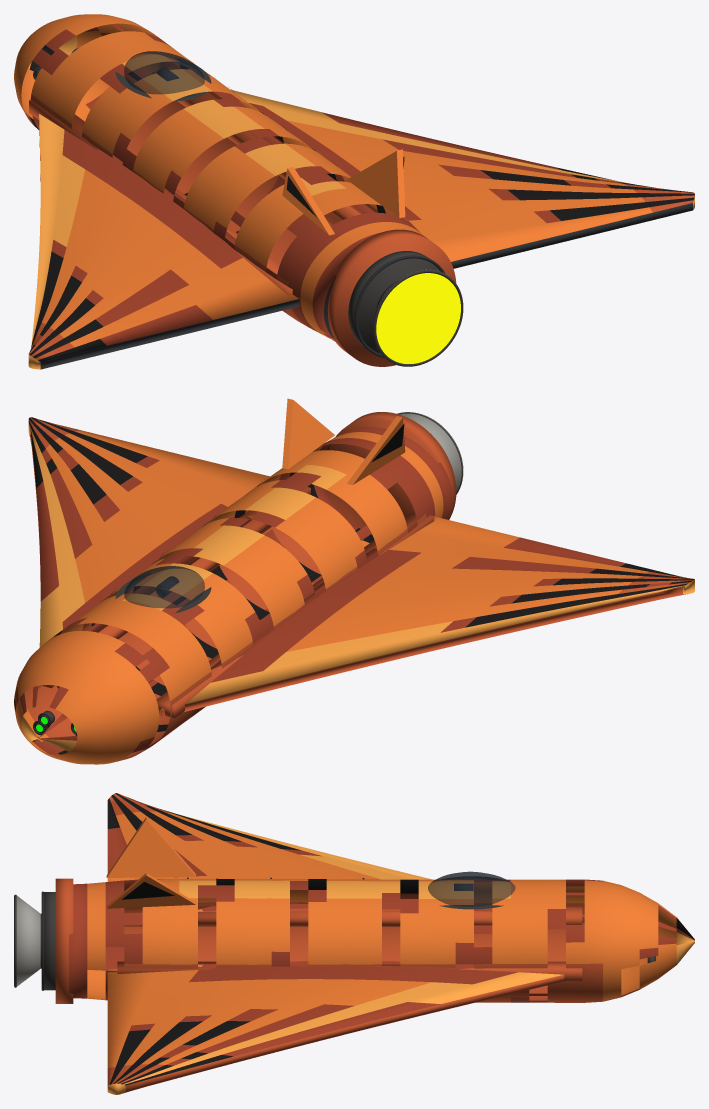
File: Ship_TigerWing_6.glb
3 views of the same model, one above another, from view 1: azimuth 30°, elevation 25°; view 2: azimuth 150°, elevation 25°; view 3: azimuth 270°, elevation 25° (orthographic). The views are drawn at different scales.
Visible parts, largest first — view 1: Fuselage_OrganicEllipsoidTaperedBody_BakedPaint, Wing_Left_LongDeltaAerofoil_BakedPaint, Wing_Right_LongDeltaAerofoil_BakedPaint, EngineEmitter, AftCollar_IntegratedSingleEngineBand, EngineBlock_AftDarkSingleEngineHousing, CanopyGlass_LowInsetDome, TailFin_Right_CantedStabilizer, WingRoot_Left_EmbeddedShoulder, TailFin_Left_CantedStabilizer, EngineLip_Center_DarkWideRim, WingRoot_Right_EmbeddedShoulder (+2 smaller); view 2: Fuselage_OrganicEllipsoidTaperedBody_BakedPaint, Wing_Left_LongDeltaAerofoil_BakedPaint, Wing_Right_LongDeltaAerofoil_BakedPaint, AftCollar_IntegratedSingleEngineBand, CanopyGlass_LowInsetDome, TailFin_Right_CantedStabilizer, WingRoot_Left_EmbeddedShoulder, TailFin_Left_CantedStabilizer, EngineBell_Center_BroadBurnishedNozzle, WingRoot_Right_EmbeddedShoulder; view 3: Fuselage_OrganicEllipsoidTaperedBody_BakedPaint, Wing_Right_LongDeltaAerofoil_BakedPaint, Wing_Left_LongDeltaAerofoil_BakedPaint, TailFin_Left_CantedStabilizer, CanopyGlass_LowInsetDome, AftCollar_IntegratedSingleEngineBand, EngineBell_Center_BroadBurnishedNozzle, WingRoot_Left_EmbeddedShoulder, WingRoot_Right_EmbeddedShoulder, TailFin_Right_CantedStabilizer, EngineBlock_AftDarkSingleEngineHousing, TailFin_Right_BakedTrimPatch.
Part boxes in pixels (x1,y1,x2,y2): Fuselage_OrganicEllipsoidTaperedBody_BakedPaint: (14,14,422,341); Wing_Left_LongDeltaAerofoil_BakedPaint: (28,114,299,369); Wing_Right_LongDeltaAerofoil_BakedPaint: (231,90,694,268); EngineEmitter: (376,273,460,363); AftCollar_IntegratedSingleEngineBand: (327,229,456,366); EngineBlock_AftDarkSingleEngineHousing: (348,251,440,353); CanopyGlass_LowInsetDome: (124,51,204,97); TailFin_Right_CantedStabilizer: (347,149,405,218); WingRoot_Left_EmbeddedShoulder: (29,100,292,295); TailFin_Left_CantedStabilizer: (282,166,334,235); EngineLip_Center_DarkWideRim: (373,269,463,366); WingRoot_Right_EmbeddedShoulder: (152,66,360,220); Fuselage_OrganicEllipsoidTaperedBody_BakedPaint: (14,427,452,764); Wing_Left_LongDeltaAerofoil_BakedPaint: (159,516,694,717); Wing_Right_LongDeltaAerofoil_BakedPaint: (28,417,269,688); AftCollar_IntegratedSingleEngineBand: (328,412,456,534); CanopyGlass_LowInsetDome: (124,566,204,608); TailFin_Right_CantedStabilizer: (282,398,334,469); WingRoot_Left_EmbeddedShoulder: (156,512,434,718); TailFin_Left_CantedStabilizer: (347,416,405,484); EngineBell_Center_BroadBurnishedNozzle: (397,412,463,494); WingRoot_Right_EmbeddedShoulder: (41,487,310,687); Fuselage_OrganicEllipsoidTaperedBody_BakedPaint: (69,878,694,1002); Wing_Right_LongDeltaAerofoil_BakedPaint: (107,961,566,1094); Wing_Left_LongDeltaAerofoil_BakedPaint: (107,793,584,922); TailFin_Left_CantedStabilizer: (106,817,195,877); CanopyGlass_LowInsetDome: (428,871,515,906); AftCollar_IntegratedSingleEngineBand: (55,878,73,1003); EngineBell_Center_BroadBurnishedNozzle: (16,895,40,986); WingRoot_Left_EmbeddedShoulder: (124,906,582,926); WingRoot_Right_EmbeddedShoulder: (117,961,582,980); TailFin_Right_CantedStabilizer: (106,873,195,908); EngineBlock_AftDarkSingleEngineHousing: (44,892,55,990); TailFin_Right_BakedTrimPatch: (122,882,174,899).
Size of the model in its own units: 6.94 by 1.74 by 6.87.
